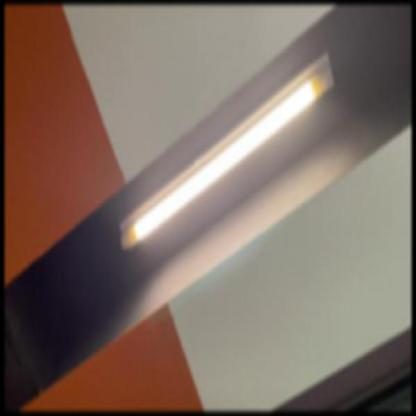light_on: (104, 41, 344, 271)
